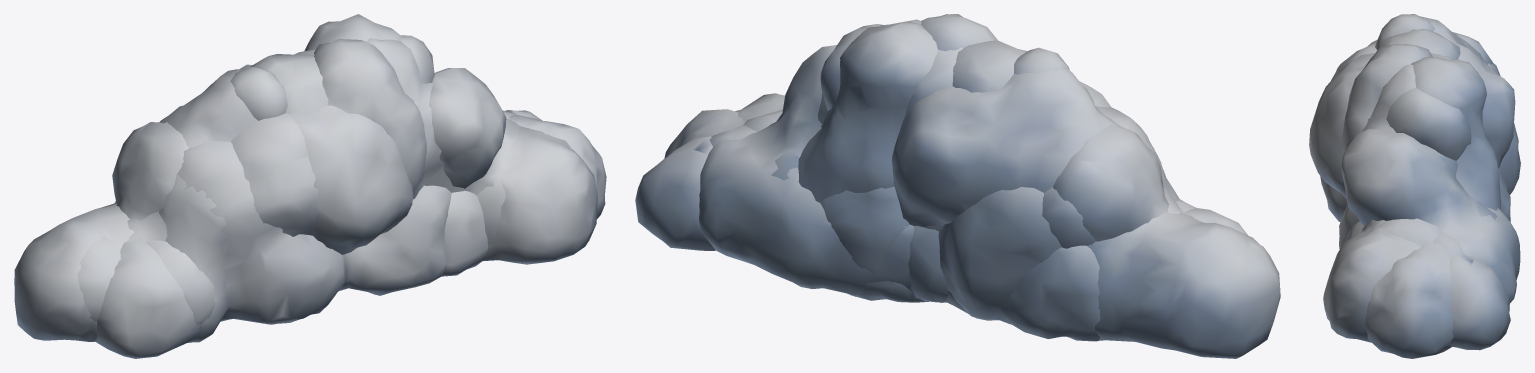
Rendered from clouds.glb.
3 renders of one model, left to right at view 1: azimuth 30°, elevation 25°; view 2: azimuth 150°, elevation 25°; view 3: azimuth 270°, elevation 25°, orthographic. The views are drawn at different scales.
Visible parts, largest first — view 1: Cloud_0, Cloud_2, Cloud_1, Cloud_4, Cloud_3, Cloud_6, Cloud_7, Cloud_5; view 2: Cloud_4, Cloud_6, Cloud_7, Cloud_5, Cloud_1, Cloud_2, Cloud_3, Cloud_0; view 3: Cloud_4, Cloud_7, Cloud_2, Cloud_1, Cloud_6, Cloud_3, Cloud_5, Cloud_0.
Boxes of the visible parts, x1,y1,x2,y2 form: Cloud_0: (126, 54, 451, 324); Cloud_2: (77, 39, 542, 321); Cloud_1: (112, 38, 597, 264); Cloud_4: (14, 35, 606, 341); Cloud_3: (146, 105, 520, 328); Cloud_6: (95, 14, 516, 358); Cloud_7: (139, 66, 506, 342); Cloud_5: (159, 54, 328, 342); Cloud_4: (664, 24, 1280, 358); Cloud_6: (709, 22, 1247, 341); Cloud_7: (699, 45, 1069, 296); Cloud_5: (820, 40, 1179, 320); Cloud_1: (735, 19, 1169, 241); Cloud_2: (635, 14, 1259, 302); Cloud_3: (743, 109, 1196, 248); Cloud_0: (958, 47, 1193, 217); Cloud_4: (1365, 16, 1515, 358); Cloud_7: (1340, 14, 1520, 302); Cloud_2: (1331, 43, 1510, 350); Cloud_1: (1323, 32, 1492, 342); Cloud_6: (1411, 57, 1501, 256); Cloud_3: (1309, 52, 1500, 245); Cloud_5: (1376, 29, 1520, 221); Cloud_0: (1320, 39, 1377, 249).
Size of the model in its own units: 4.92 by 1.99 by 1.77.
